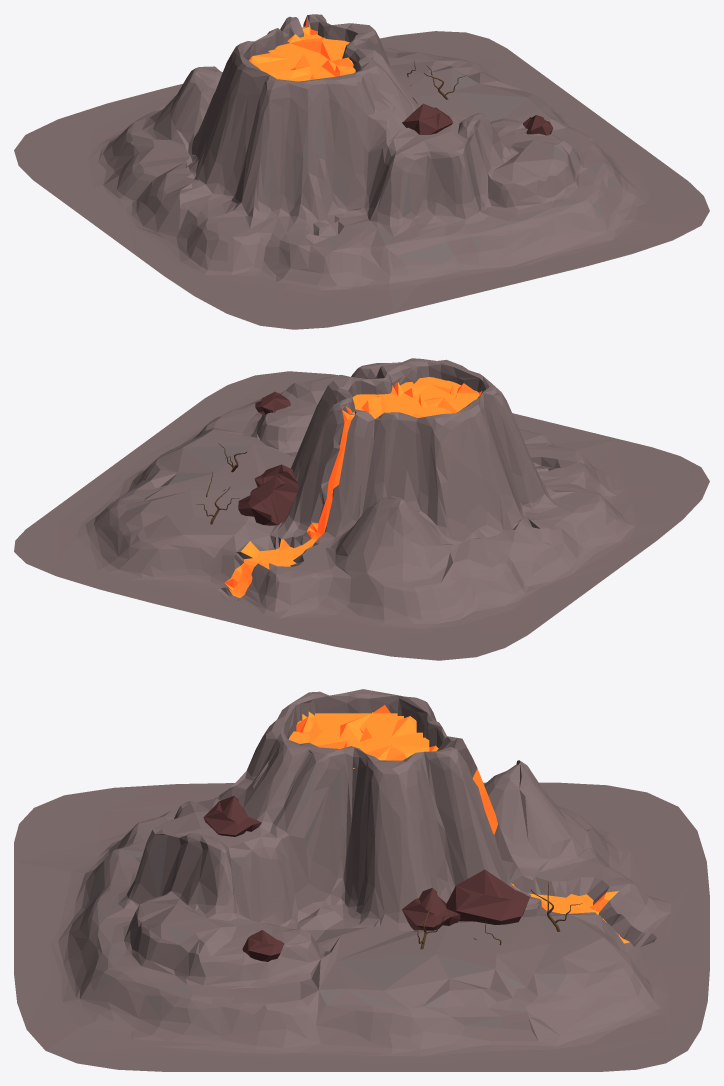
The model's file is metal1.gltf.
The picture shows the model from 3 angles, top to bottom: view 1: azimuth 30°, elevation 25°; view 2: azimuth 150°, elevation 25°; view 3: azimuth 270°, elevation 25°; orthographic projection. The views are drawn at different scales.
Parts seen in each view (by area): view 1: pPlane1; view 2: pPlane1; view 3: pPlane1.
Boxes of the visible parts, left/top/right/bottom form: pPlane1: left=14, top=14, right=709, bottom=329; pPlane1: left=14, top=358, right=709, bottom=660; pPlane1: left=14, top=689, right=709, bottom=1071.
Bounding box in the file's own units: 8.59 × 2.52 × 8.74.
